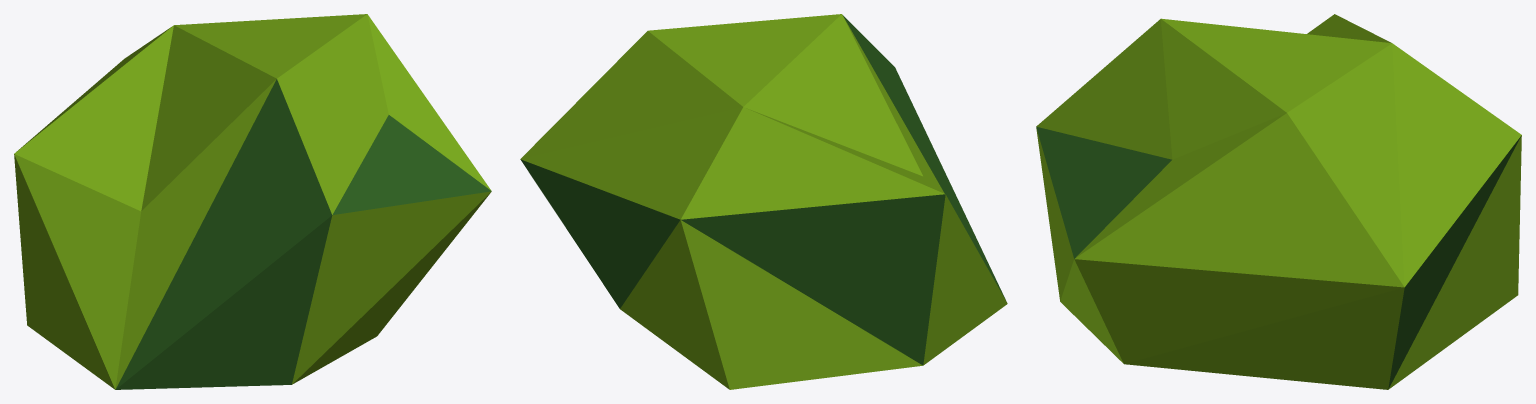
The model's file is Plant_M1_1.fbx.
The picture shows the model from 3 angles, left to right: view 1: azimuth 30°, elevation 25°; view 2: azimuth 150°, elevation 25°; view 3: azimuth 270°, elevation 25°; orthographic projection. The views are drawn at different scales.
Visible parts, largest first — view 1: Plant_M1_1; view 2: Plant_M1_1; view 3: Plant_M1_1.
Part boxes in pixels (x1,y1,x2,y2): Plant_M1_1: (14, 14, 491, 389); Plant_M1_1: (520, 14, 1007, 389); Plant_M1_1: (1036, 14, 1521, 389).
Size of the model in its own units: 70.99 by 43.71 by 64.25.
